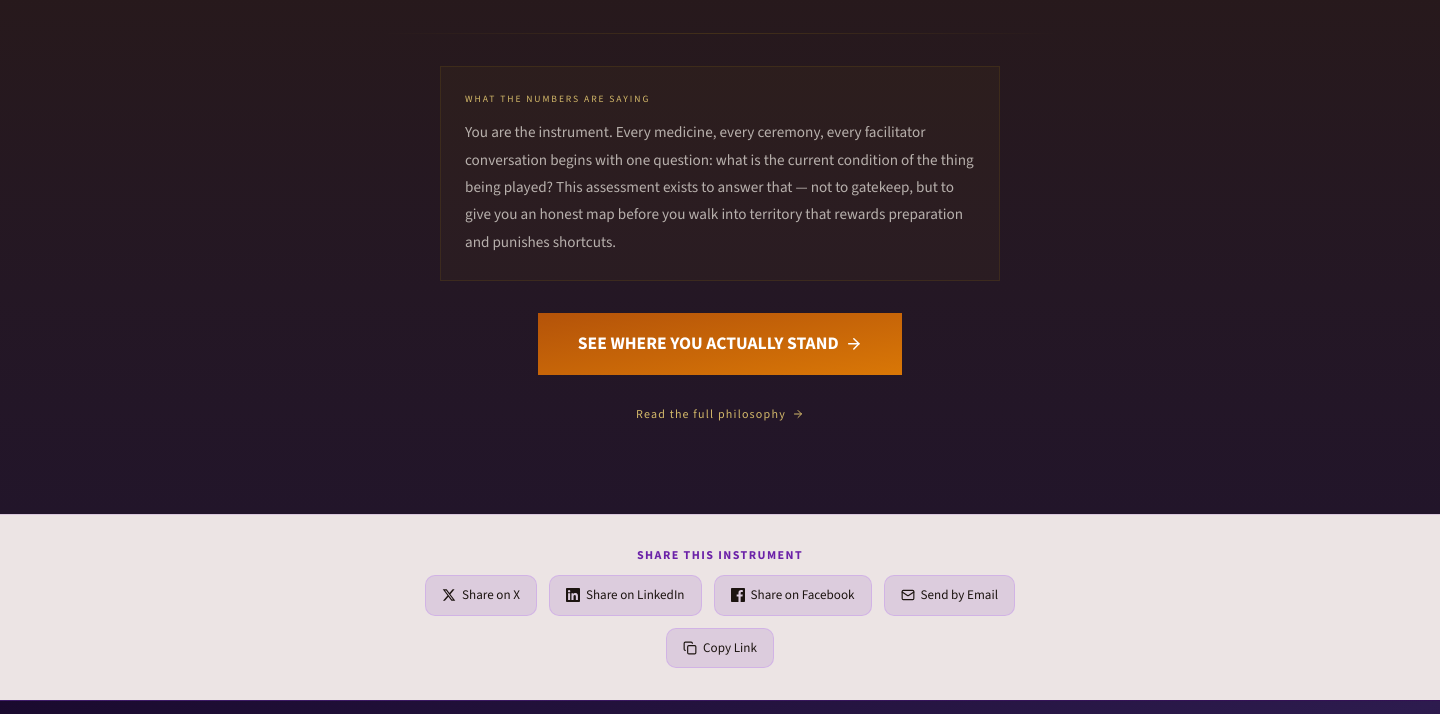
Test: PsychedelicReadinessIndex › shows every medicine and walks philosophy, intro, then the first question
(page scrolled)
Click the button "See Where You Actually Stand" at x=720, y=344, box [538,313,902,375]
(page scrolled)
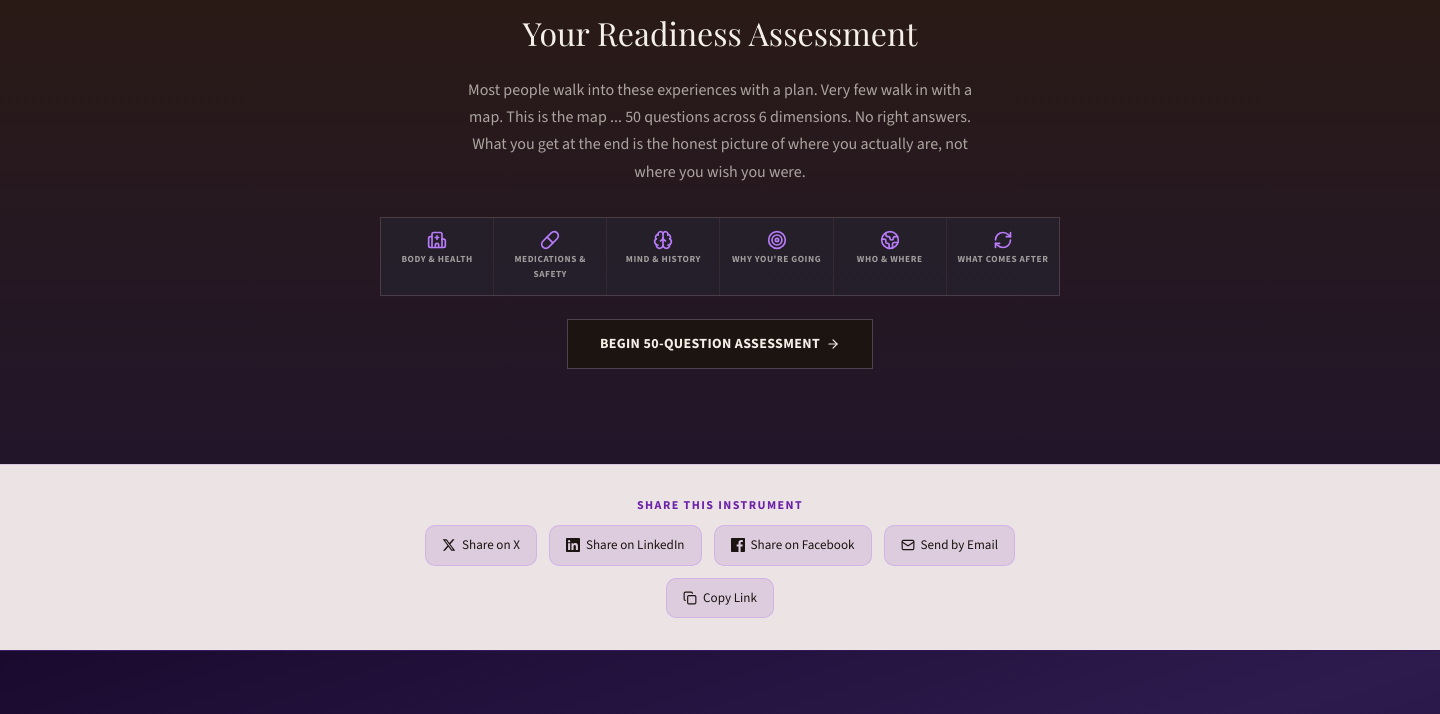
Click the button "Begin 50-Question Assessment" at x=720, y=344, box [568,320,872,368]
(page scrolled)
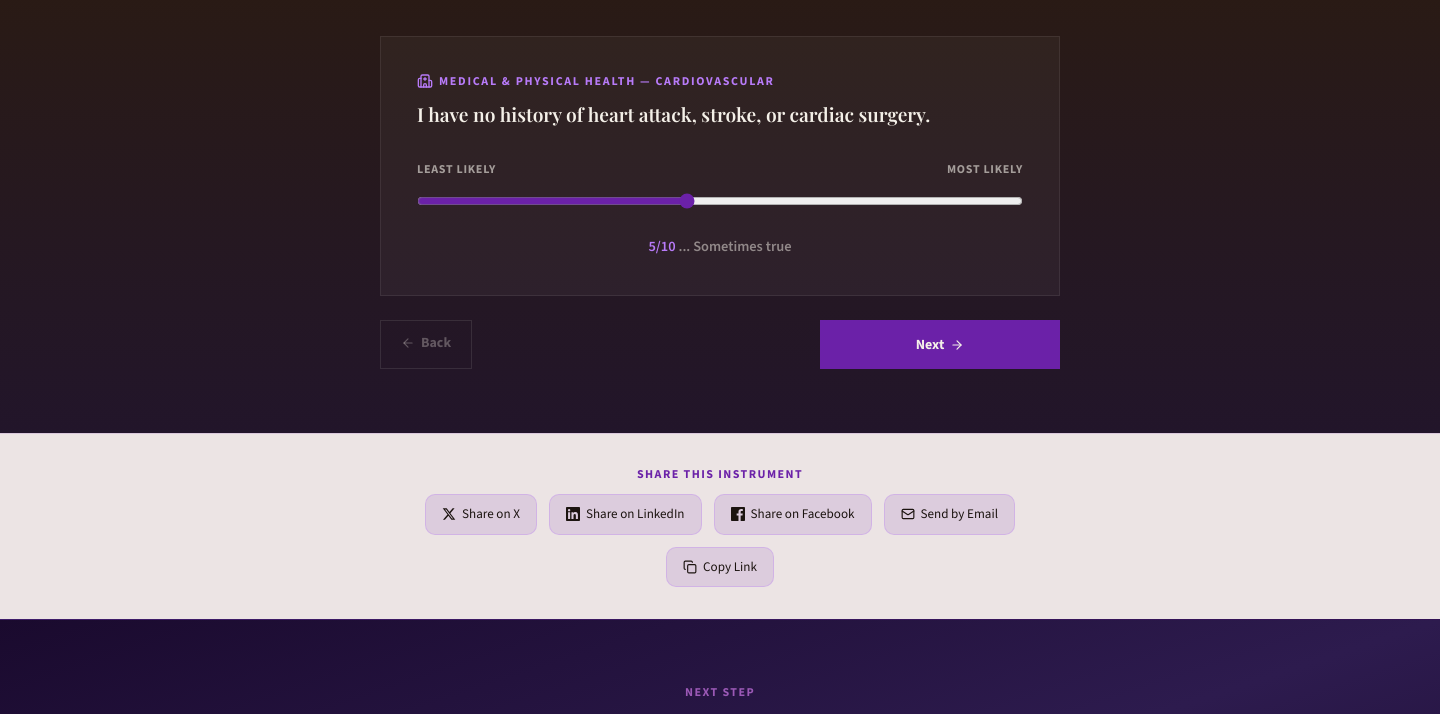
Result: the text "I have no history of heart attack, stroke, or cardiac surgery." is shown at [417,101,930,127]
Result: the slider holds "5" at [417,187,1023,215]
Result: the button "Back" is disabled at [380,320,472,369]
